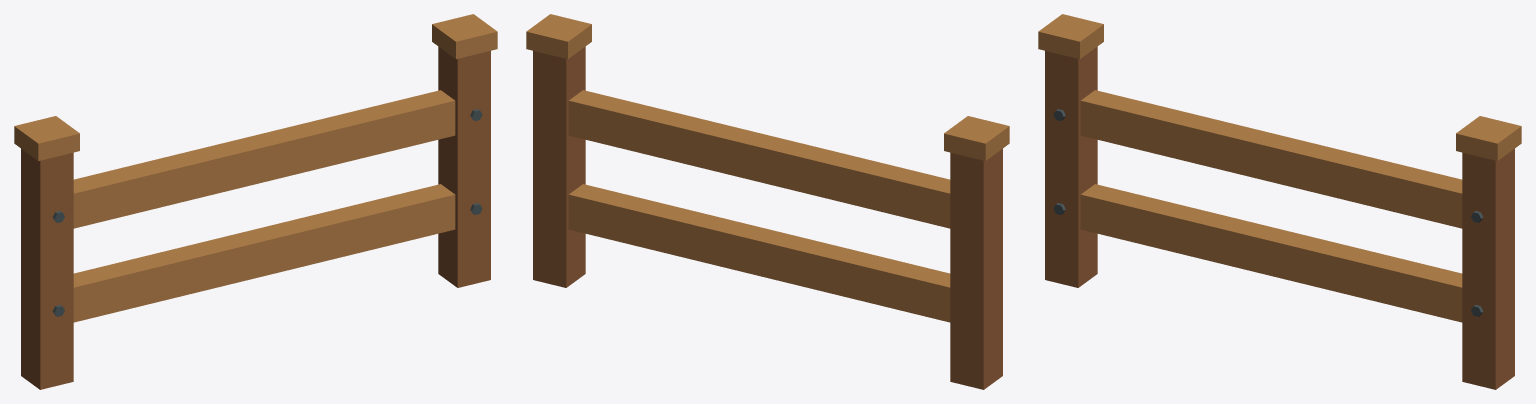
File: fence_kit__fence_straight.glb
3 views of the same model, side by side, from view 1: azimuth 30°, elevation 25°; view 2: azimuth 150°, elevation 25°; view 3: azimuth 330°, elevation 25° (orthographic).
Visible parts, largest first — view 1: fence_straight__wood2.001, fence_straight__wood.001, fence_straight__metal.001; view 2: fence_straight__wood2.001, fence_straight__wood.001; view 3: fence_straight__wood2.001, fence_straight__wood.001, fence_straight__metal.001.
Boxes of the visible parts, x1,y1,x2,y2 form: fence_straight__wood2.001: (14, 14, 497, 322); fence_straight__wood.001: (21, 46, 490, 389); fence_straight__metal.001: (52, 109, 482, 316); fence_straight__wood2.001: (526, 14, 1009, 322); fence_straight__wood.001: (533, 46, 1002, 389); fence_straight__wood2.001: (1038, 14, 1521, 322); fence_straight__wood.001: (1045, 46, 1514, 389); fence_straight__metal.001: (1053, 109, 1483, 316).
Size of the model in its own units: 2.2 by 1.14 by 0.205.
